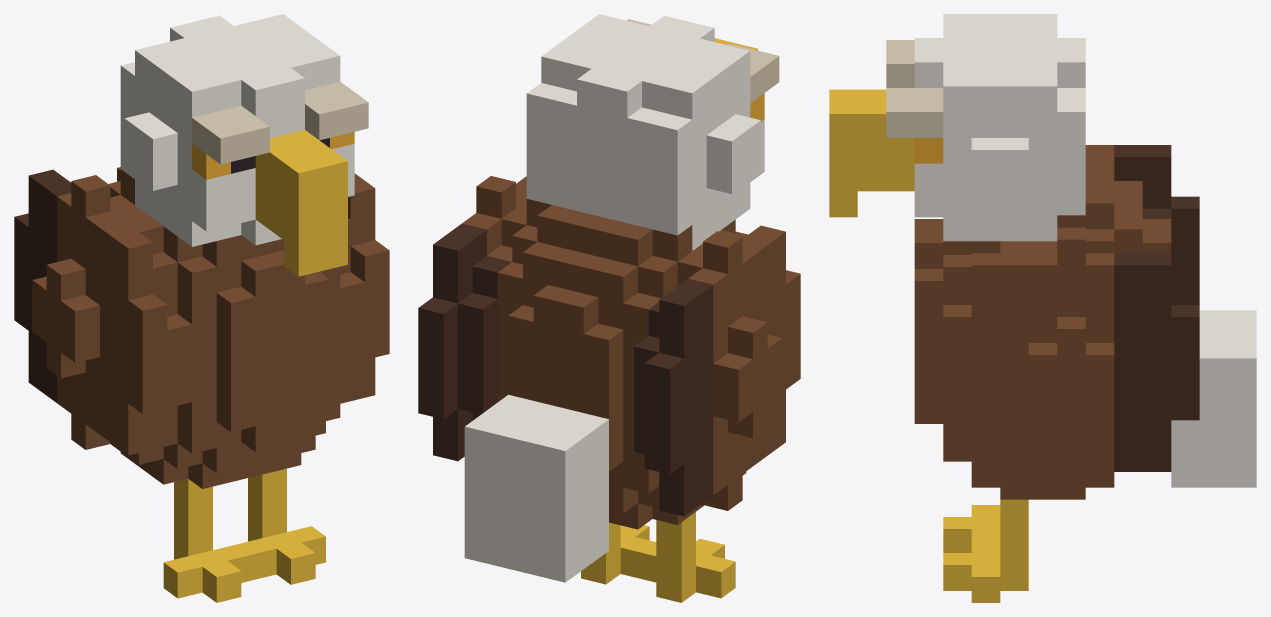
The model's file is eagle.glb.
3 views of the same model, side by side, from view 1: azimuth 30°, elevation 25°; view 2: azimuth 150°, elevation 25°; view 3: azimuth 270°, elevation 25° (orthographic).
Parts seen in each view (by area): view 1: eagle__head, eagle__body, eagle__wing_r, eagle__leg_r, eagle__wing_l, eagle__leg_l; view 2: eagle__head, eagle__wing_r, eagle__body, eagle__tail, eagle__wing_l, eagle__leg_r, eagle__leg_l; view 3: eagle__wing_l, eagle__head, eagle__body, eagle__tail, eagle__wing_r, eagle__leg_l, eagle__leg_r.
Part boxes in pixels (x1,y1,x2,y2): eagle__head: (120, 14, 368, 276); eagle__body: (109, 167, 364, 488); eagle__wing_r: (14, 169, 177, 455); eagle__leg_r: (163, 479, 251, 602); eagle__wing_l: (340, 173, 389, 400); eagle__leg_l: (238, 468, 325, 584); eagle__head: (526, 14, 779, 250); eagle__wing_r: (634, 225, 800, 516); eagle__body: (497, 199, 747, 529); eagle__tail: (464, 394, 608, 582); eagle__wing_l: (418, 176, 526, 461); eagle__leg_r: (645, 512, 735, 602); eagle__leg_l: (581, 522, 656, 584); eagle__wing_l: (943, 227, 1199, 497); eagle__head: (829, 14, 1085, 241); eagle__body: (914, 155, 1171, 499); eagle__tail: (1171, 310, 1256, 487); eagle__wing_r: (1085, 145, 1199, 304); eagle__leg_l: (943, 499, 1028, 602); eagle__leg_r: (943, 505, 1000, 552).
Bounding box in the file's own units: 1.2 × 2 × 1.5.
1 material, 1 textured.
